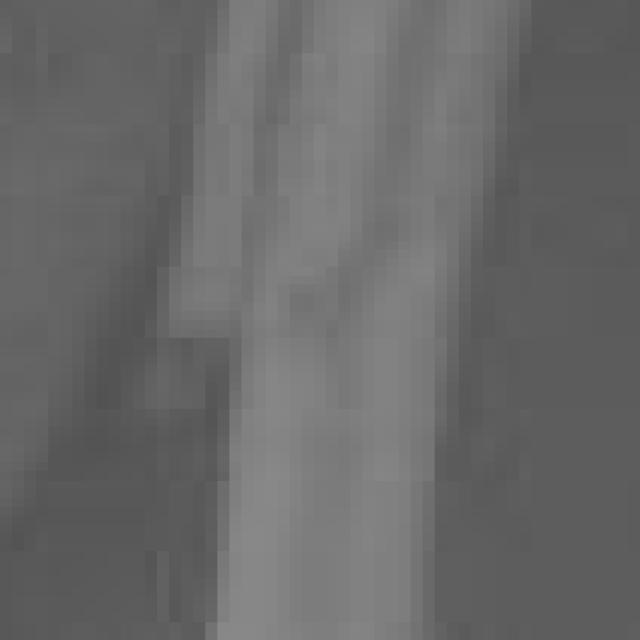fracture: (0, 6, 640, 640)
